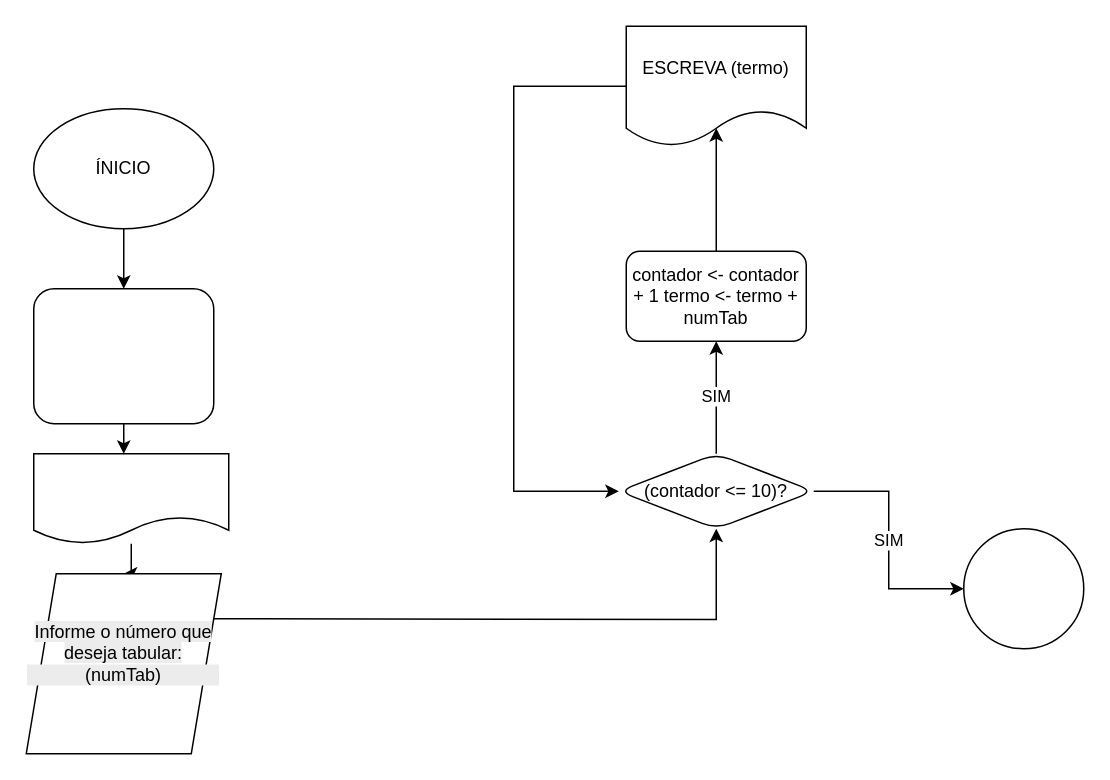
This 1110x780 diagram has some shape labels left out. Each missing label, with the centre of its shape:
FIM: the point at 1023,588
inteiro numTab <- 0 termo <- 0 contador <- 1: the point at 123,355
Olá jovem. Vamos calcular?: the point at 130,498
